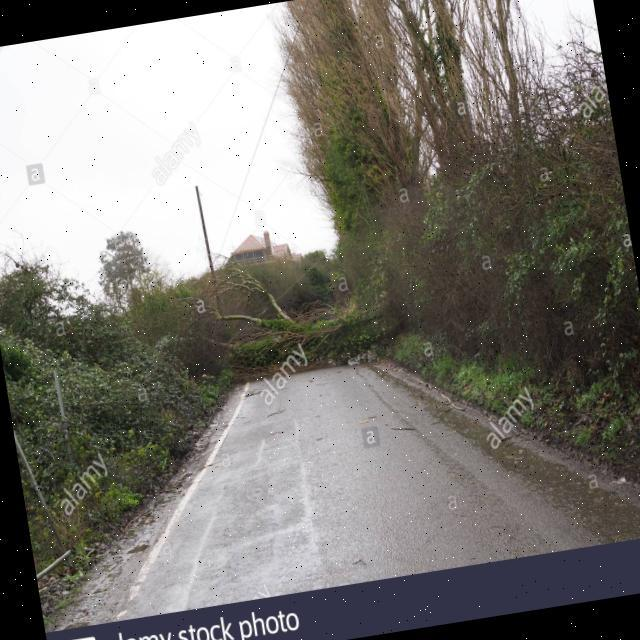fallen_object: (143, 252, 431, 414)
